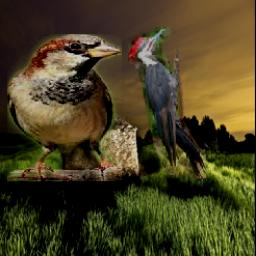Sparrow: (7, 34, 122, 181)
Woodpecker: (129, 27, 207, 178)
